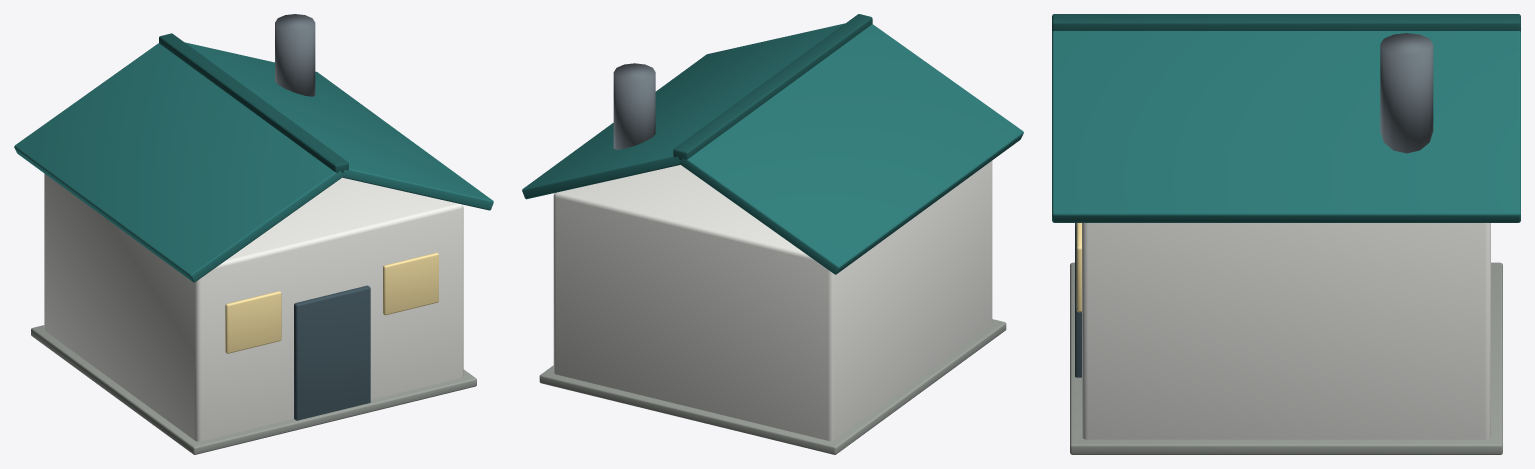
The model's file is hatchery.glb.
The picture shows the model from 3 angles, left to right: view 1: azimuth 30°, elevation 25°; view 2: azimuth 150°, elevation 25°; view 3: azimuth 270°, elevation 25°; orthographic projection. The views are drawn at different scales.
Visible parts, largest first — view 1: Body, Roof, Glass; view 2: Body, Roof; view 3: Body, Roof, Glass.
Part boxes in pixels (x1,y1,x2,y2): Body: (31,14,476,454); Roof: (14,33,493,282); Glass: (225,252,438,353); Body: (539,63,1006,454); Roof: (522,14,1023,274); Body: (1070,33,1502,454); Roof: (1052,14,1520,222); Glass: (1076,223,1081,312).
Size of the model in its own units: 3.85 by 3.45 by 3.9.
